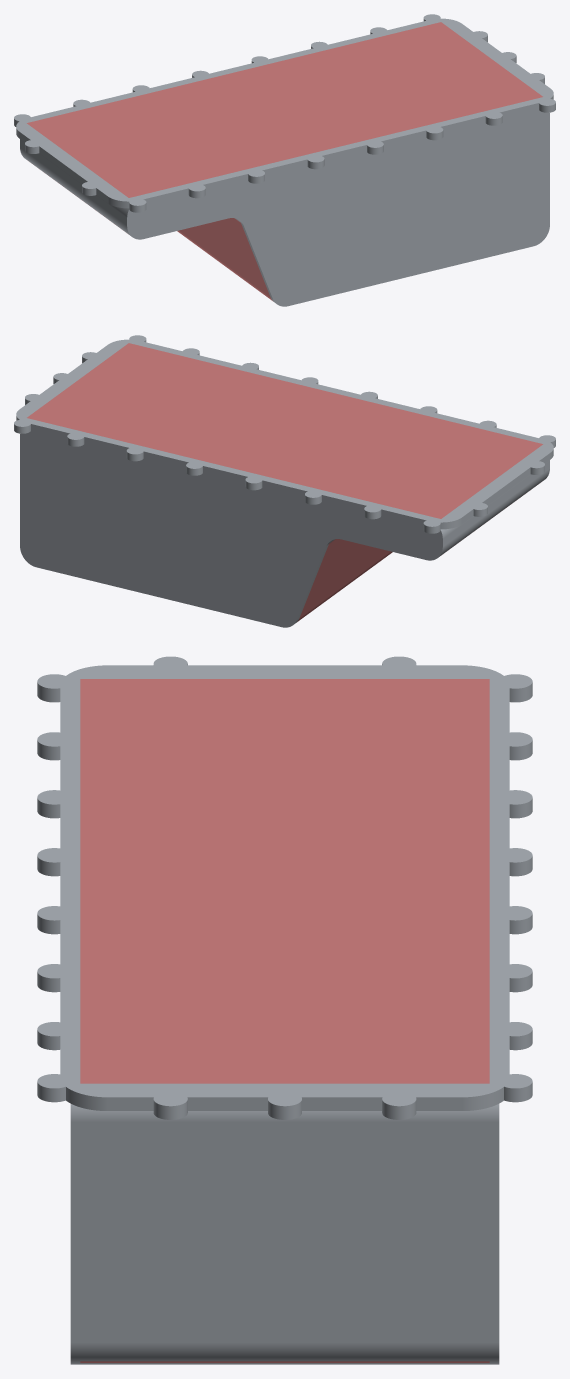
File: step_05.glb
The picture shows the model from 3 angles, top to bottom: view 1: azimuth 30°, elevation 25°; view 2: azimuth 150°, elevation 25°; view 3: azimuth 270°, elevation 25°; orthographic projection. The views are drawn at different scales.
Parts seen in each view (by area): view 1: part__oil pan, removed__oil pan; view 2: part__oil pan, removed__oil pan; view 3: removed__oil pan, part__oil pan.
Boxes of the visible parts, left/top/right/bottom form: part__oil pan: left=14, top=14, right=555, bottom=306; removed__oil pan: left=27, top=22, right=542, bottom=300; part__oil pan: left=14, top=335, right=555, bottom=627; removed__oil pan: left=27, top=343, right=542, bottom=621; removed__oil pan: left=80, top=679, right=489, bottom=1362; part__oil pan: left=37, top=656, right=532, bottom=1364.
Size of the model in its own units: 559 by 168 by 260.
